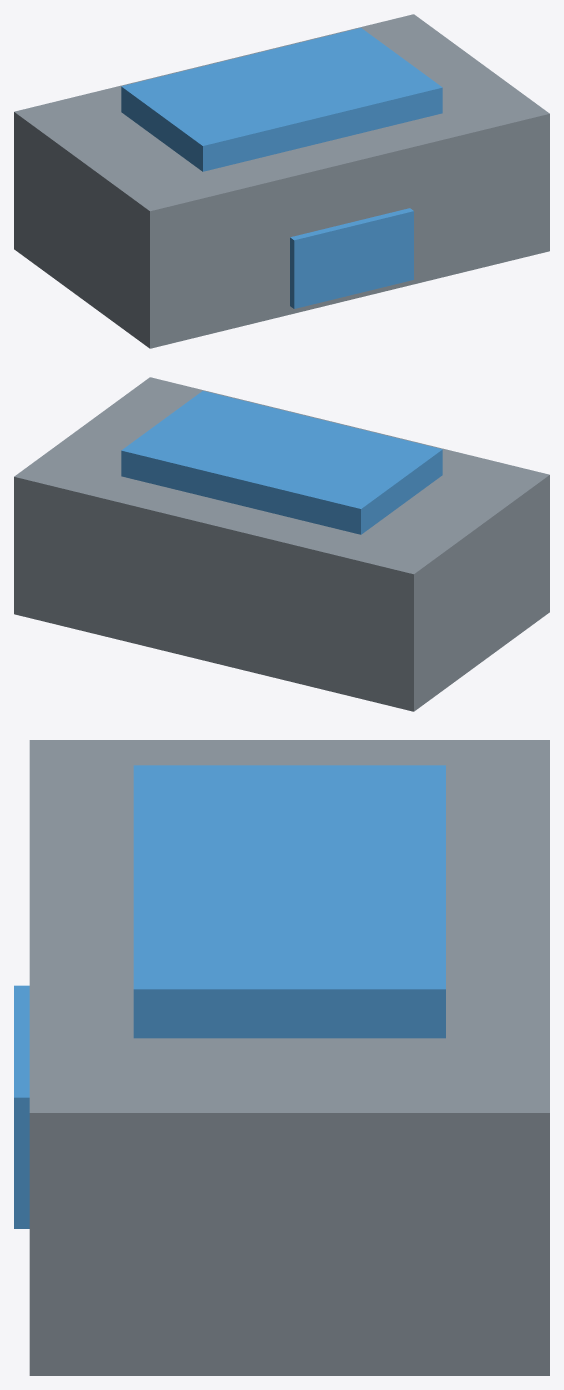
Rendered from AL_WardShieldCarrier_LOD0.glb.
3 views of the same model, one above another, from view 1: azimuth 30°, elevation 25°; view 2: azimuth 150°, elevation 25°; view 3: azimuth 270°, elevation 25° (orthographic). The views are drawn at different scales.
Parts seen in each view (by area): view 1: EntranceGate; view 2: EntranceGate; view 3: EntranceGate.
Part boxes in pixels (bbox=[...]): EntranceGate: bbox=[14, 14, 549, 348]; EntranceGate: bbox=[14, 377, 549, 711]; EntranceGate: bbox=[14, 740, 549, 1375].
Size of the model in its own units: 560 by 219 by 340.
